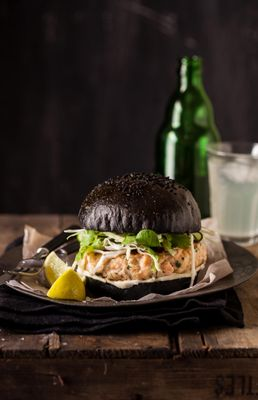pizza: (207, 141, 257, 245)
soup: (40, 170, 217, 296), (76, 169, 210, 284)
